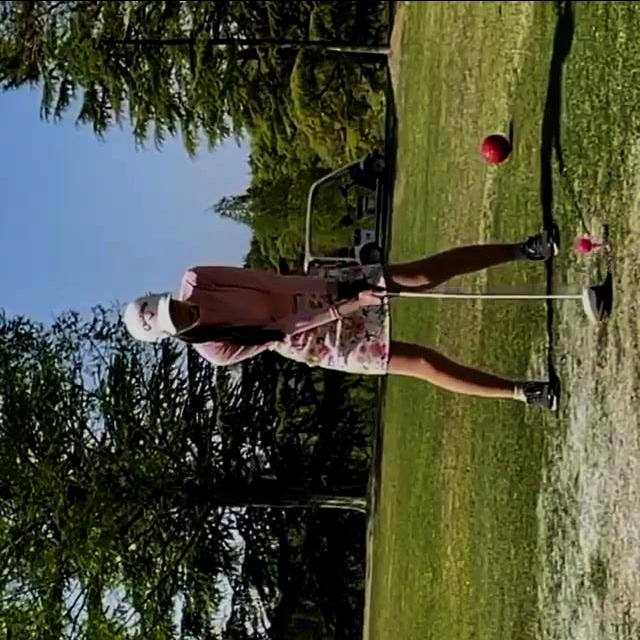ClubHandle: (367, 277, 610, 318)
ClubHead: (583, 284, 610, 318)
GolfBall: (572, 237, 596, 252)
